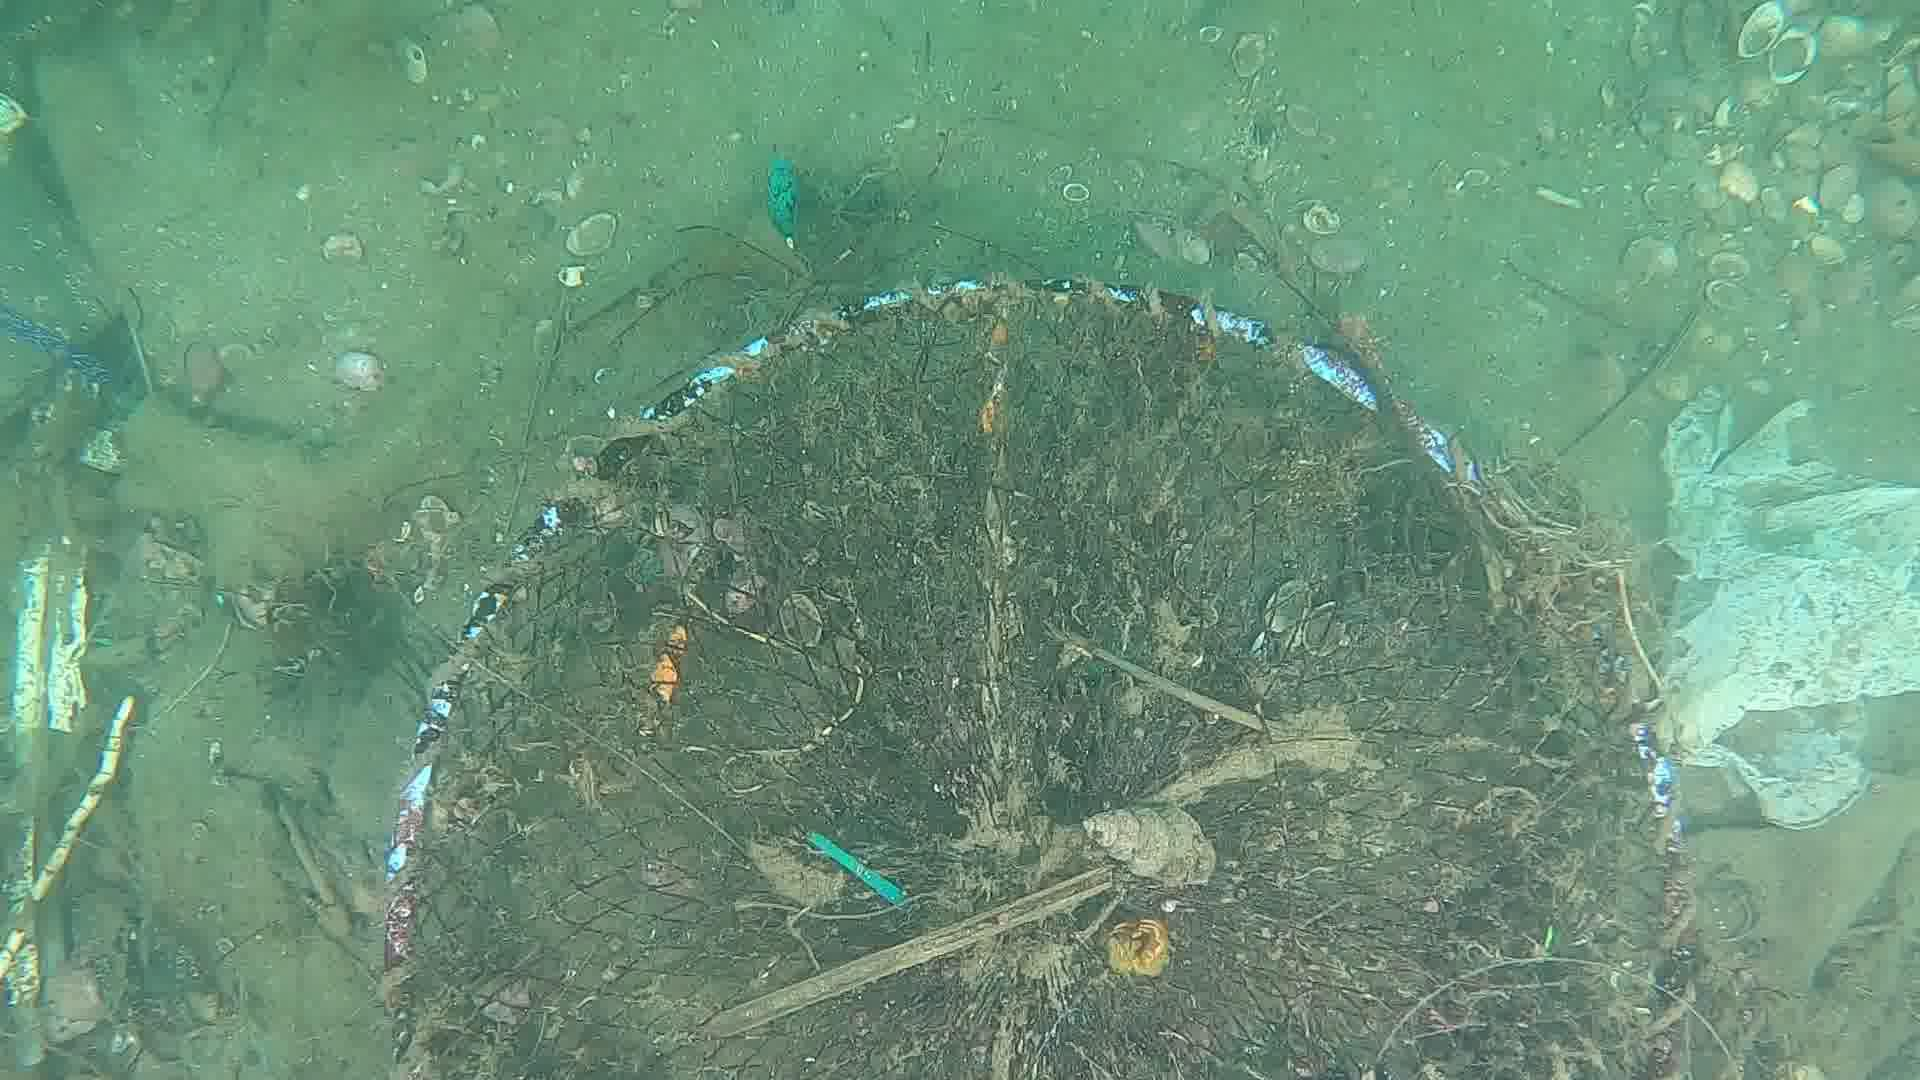circular fish trap: (375, 258, 1698, 1080)
